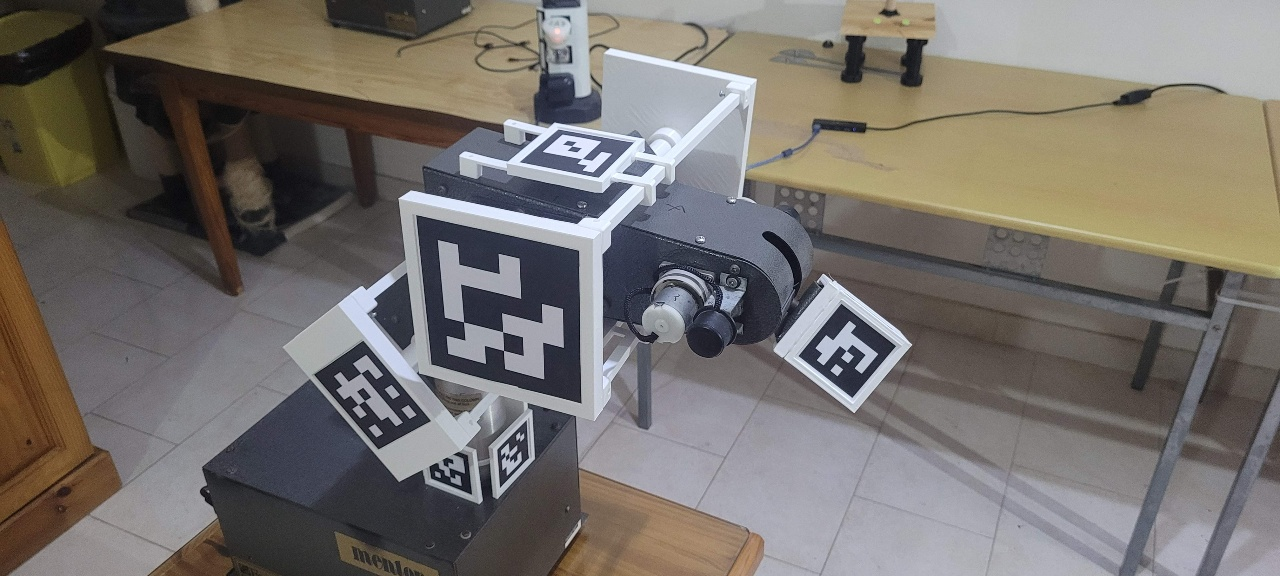Robot: (281, 47, 912, 506)
